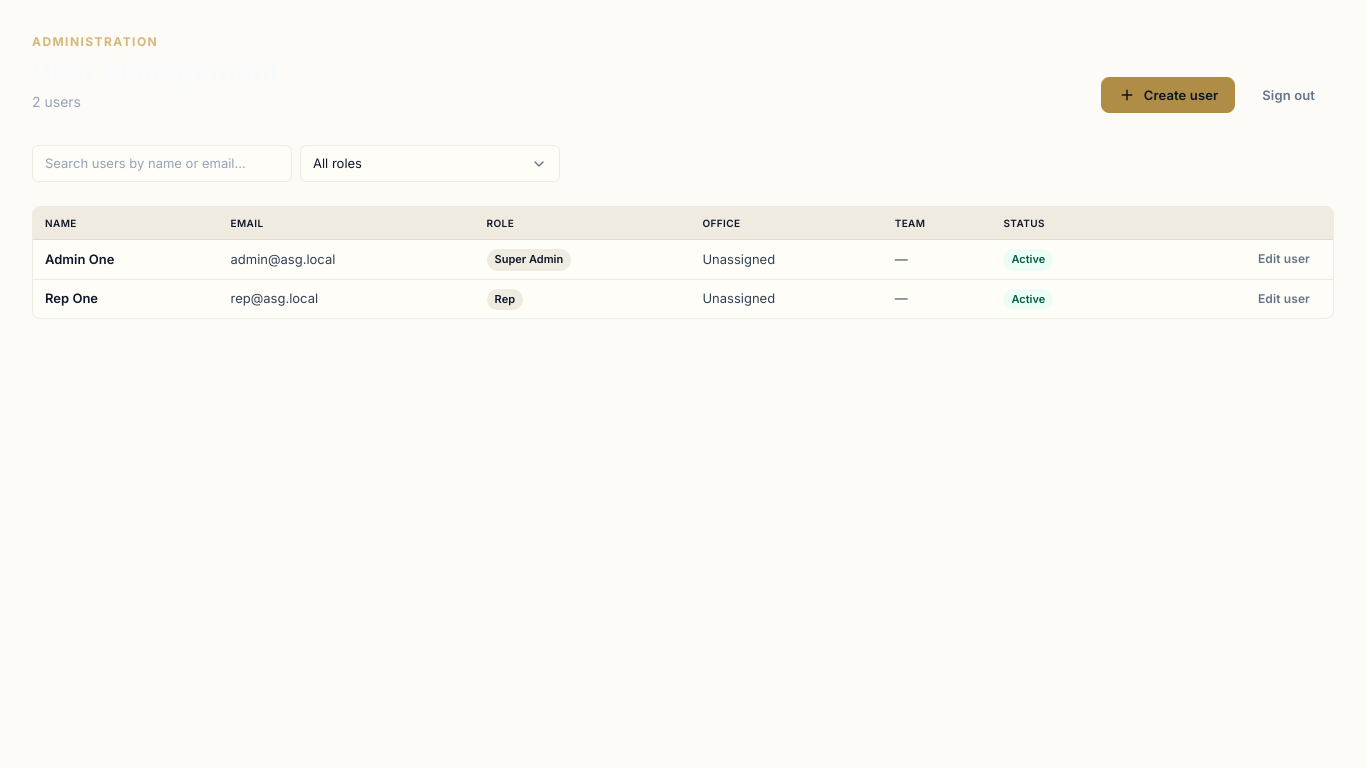
Test: AdminUsersPage › deactivates a user and updates the status display
Click the button "Edit user" in the row of "Rep One" at (1284, 299), box [1247,288,1321,310]
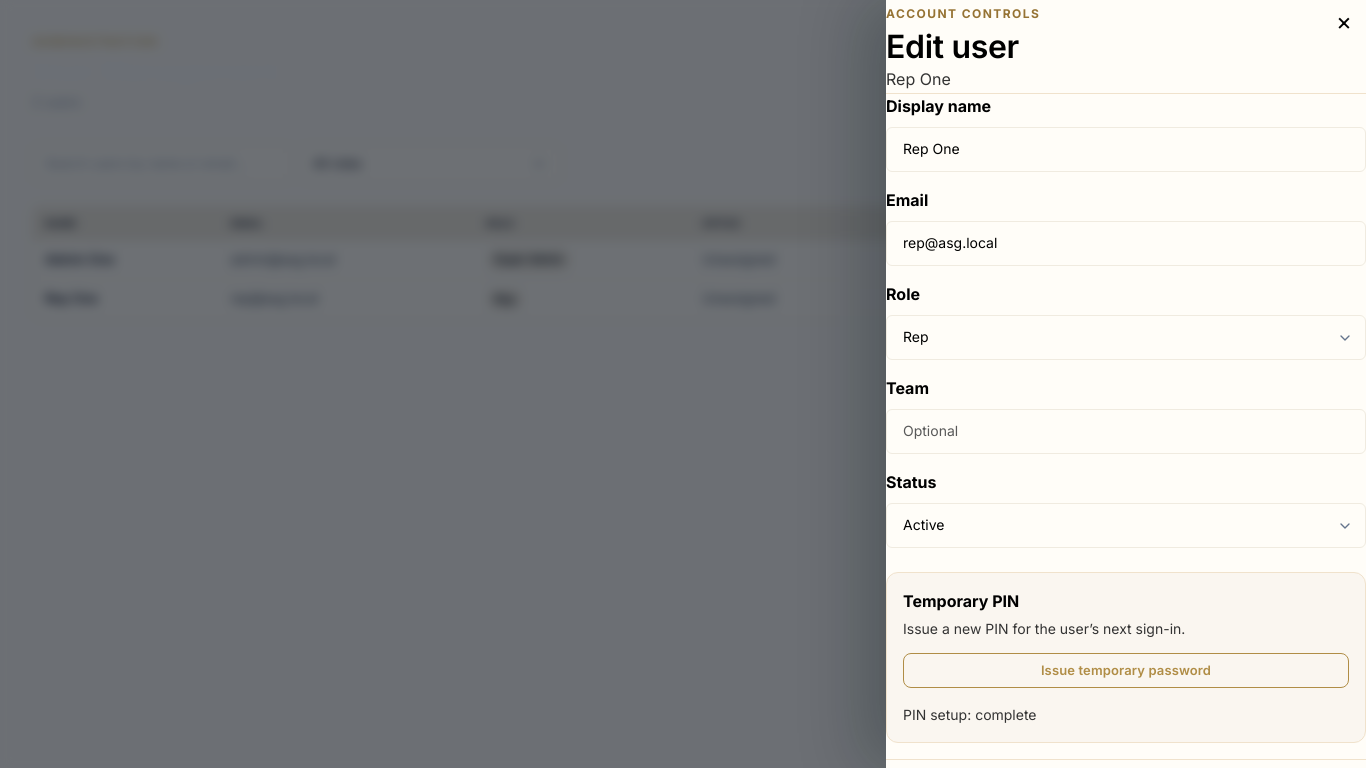
Select "Disabled" in the dropdown labelled "Status" at (1126, 526), box [886,503,1365,548]
(page scrolled)
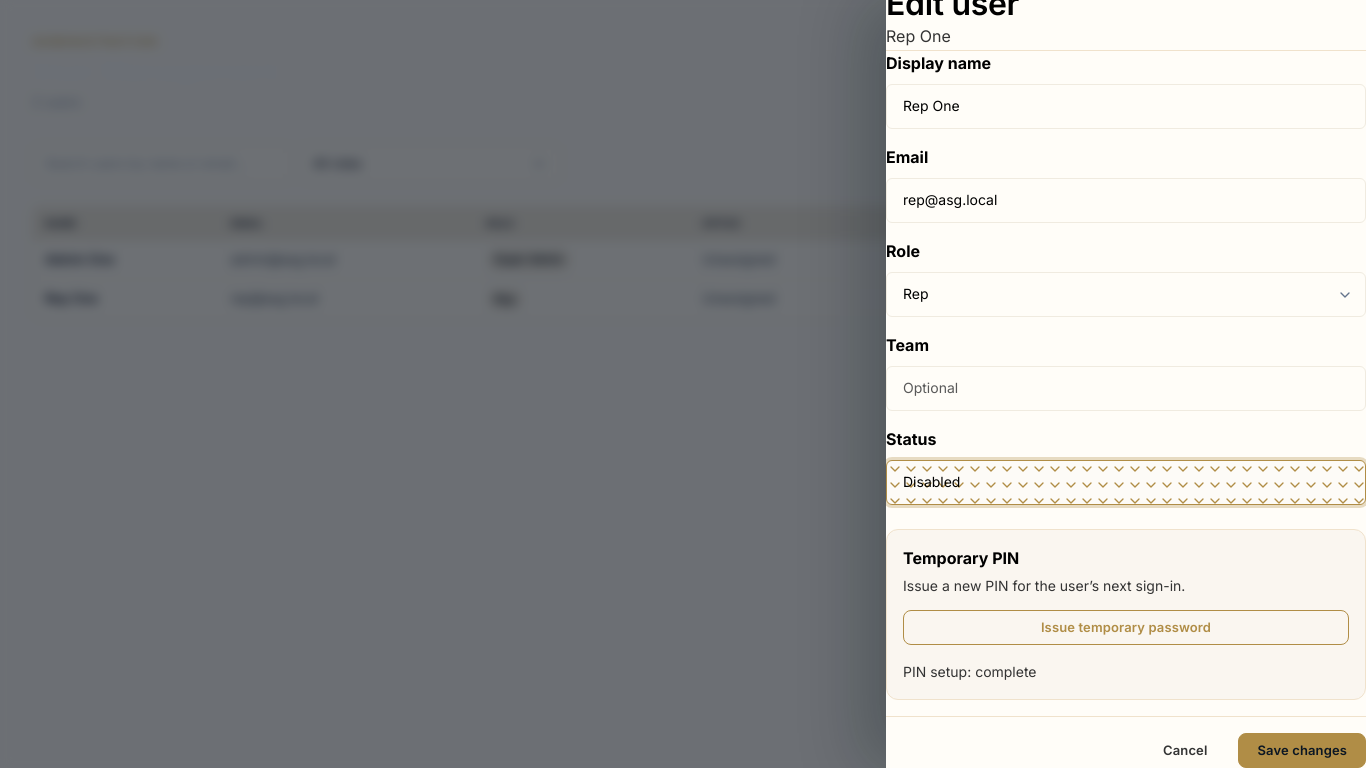
Click the button "Save changes" at (1302, 751), box [1238,733,1365,767]
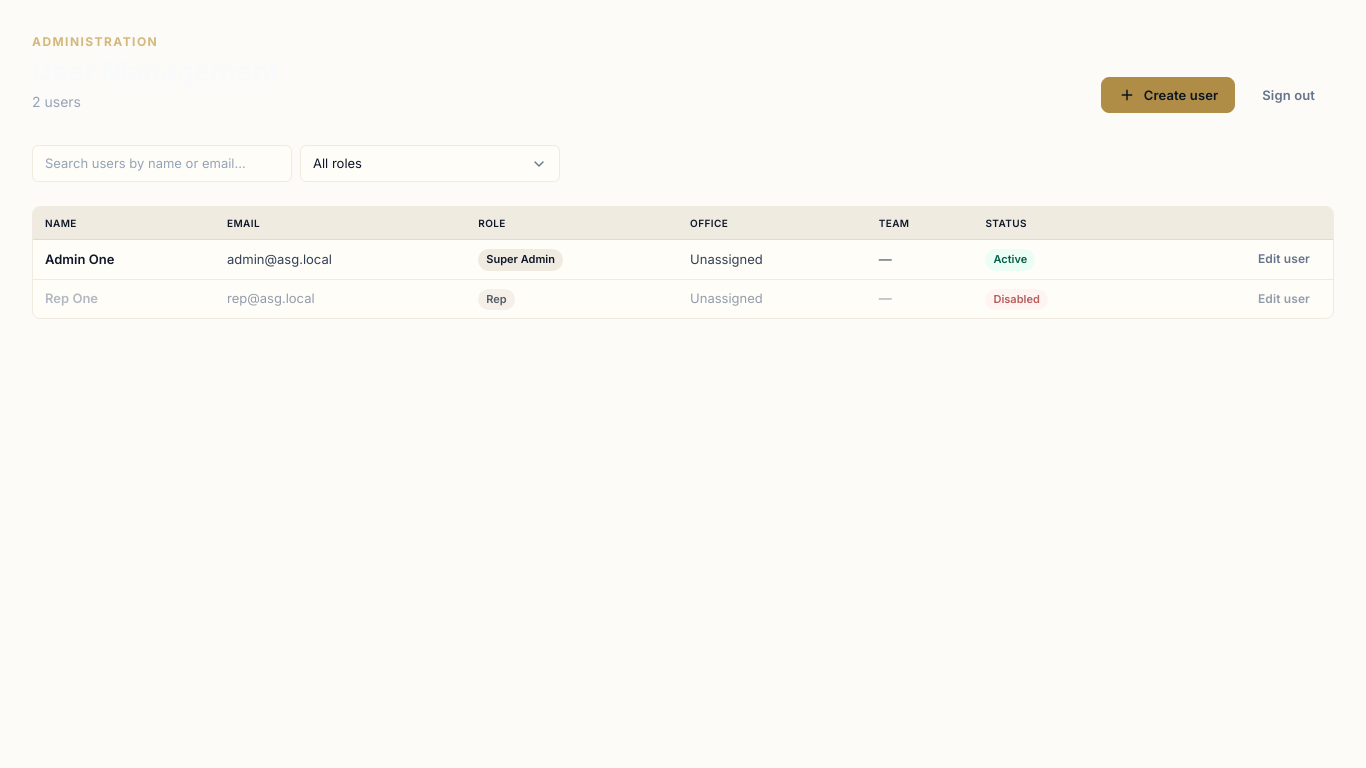
Result: the row "Rep One rep@asg.local Rep Unassigned — Disabled Edit user" is shown at [33,279,1333,318]
